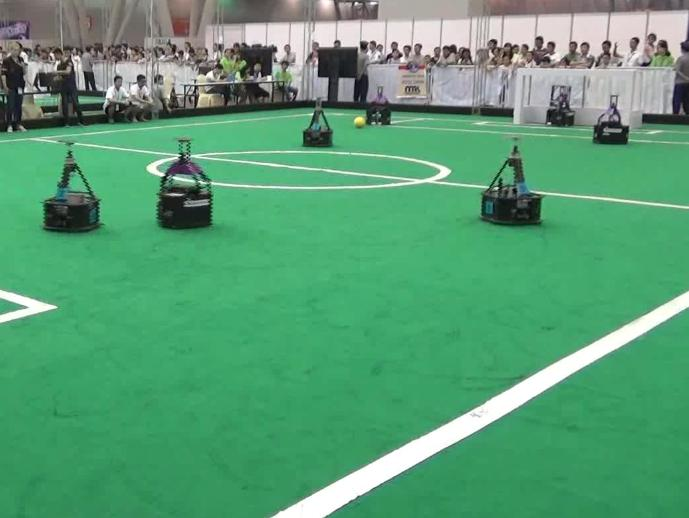robot: (475, 133, 548, 226), (38, 136, 104, 233), (150, 134, 216, 231)
